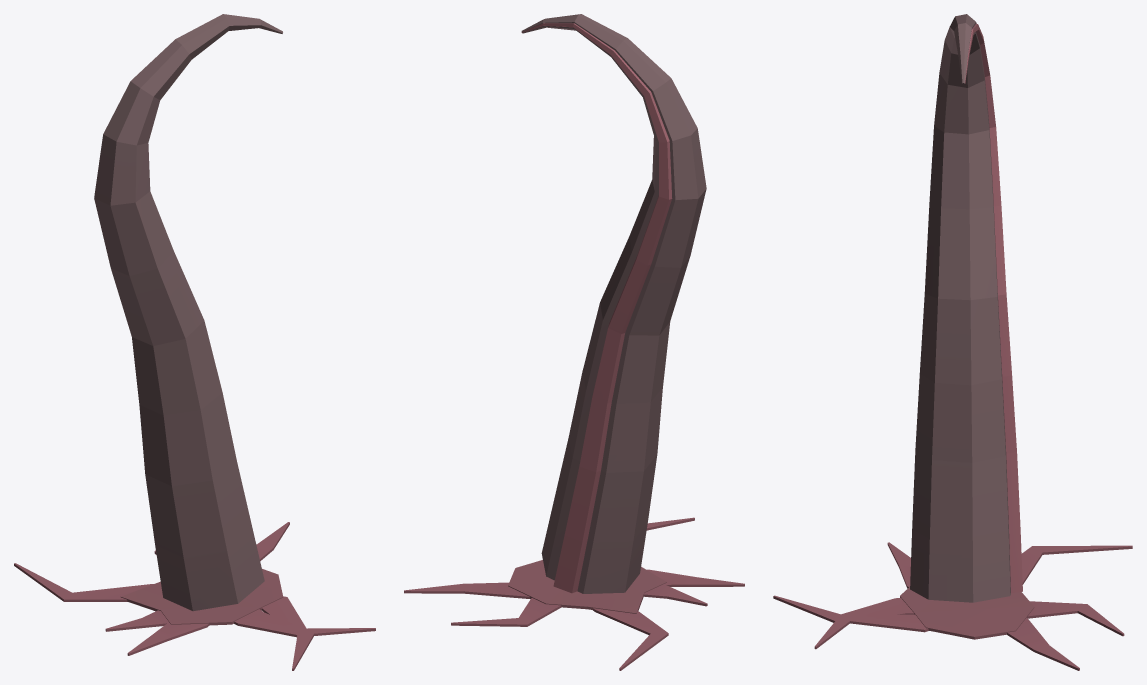
File: PT_ArenaTentacleTall.glb
The picture shows the model from 3 angles, left to right: view 1: azimuth 30°, elevation 25°; view 2: azimuth 150°, elevation 25°; view 3: azimuth 270°, elevation 25°; orthographic projection. The views are drawn at different scales.
Visible parts, largest first — view 1: Body; view 2: Body; view 3: Body.
Part boxes in pixels (x1,y1,x2,y2): Body: [14, 14, 375, 670]; Body: [404, 14, 744, 670]; Body: [773, 14, 1132, 670].
Bounding box in the file's own units: 11.18 × 24.27 × 13.45.
